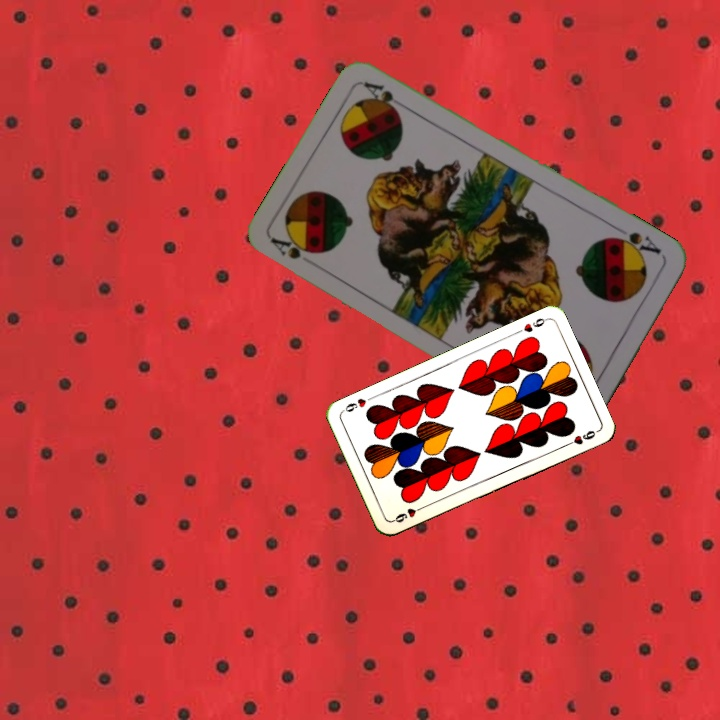H9: (511, 314, 550, 337), (389, 502, 427, 525)
SA: (608, 227, 664, 260), (267, 232, 321, 262)
